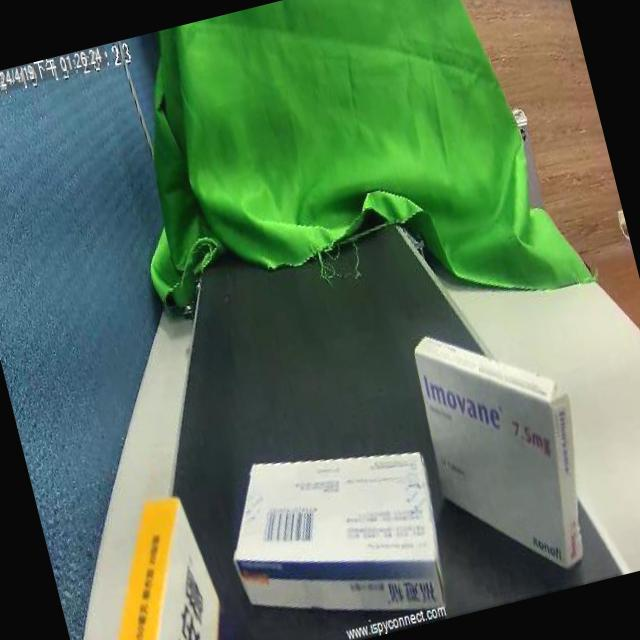box: (206, 411, 453, 635), (412, 351, 595, 605), (103, 501, 232, 640)
